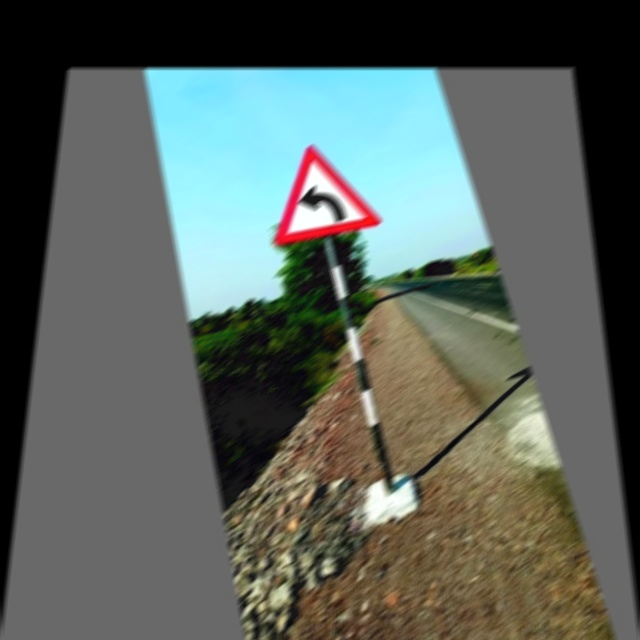Left_Hand_Curve: (257, 132, 379, 251)
